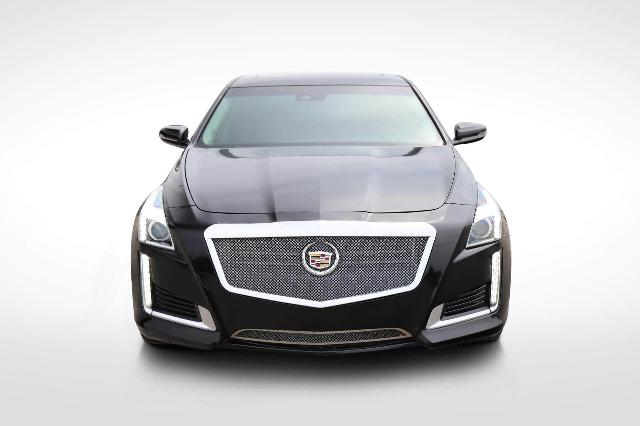cadillac: (130, 70, 512, 360)
